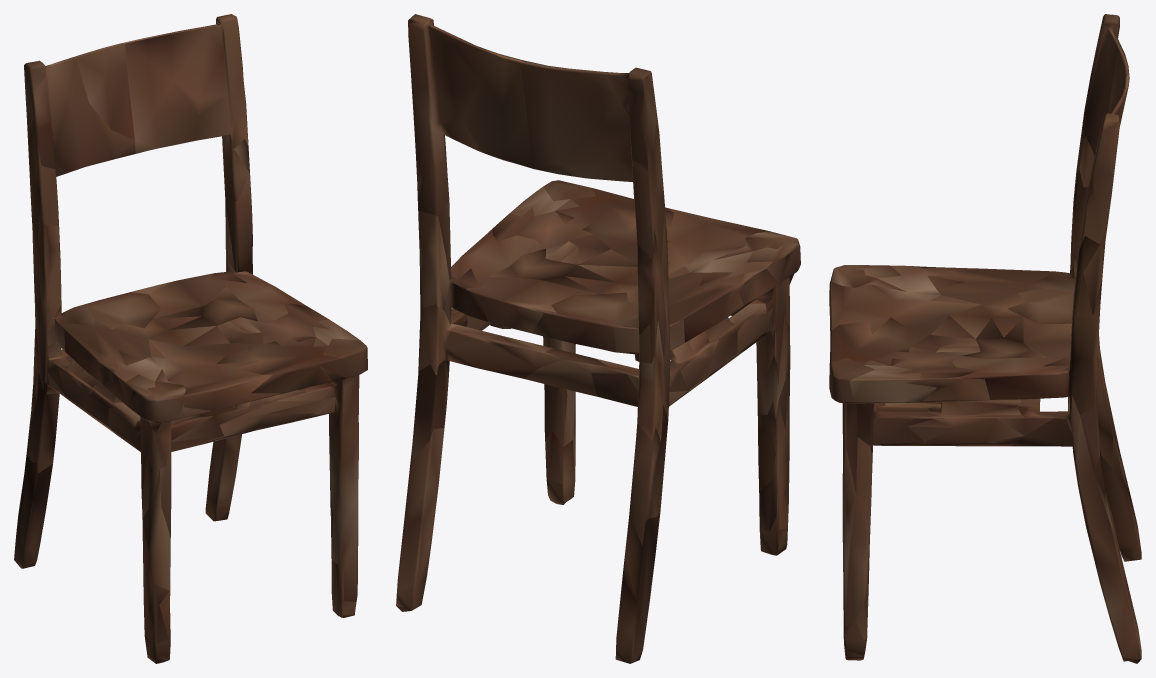
The model's file is silla.glb.
3 views of the same model, side by side, from view 1: azimuth 30°, elevation 25°; view 2: azimuth 150°, elevation 25°; view 3: azimuth 270°, elevation 25° (orthographic). The views are drawn at different scales.
Visible parts, largest first — view 1: tripo_node_a2b9ca2f-5032-4672-860c-a8e8e39a394c; view 2: tripo_node_a2b9ca2f-5032-4672-860c-a8e8e39a394c; view 3: tripo_node_a2b9ca2f-5032-4672-860c-a8e8e39a394c.
Boxes of the visible parts, x1=… form: tripo_node_a2b9ca2f-5032-4672-860c-a8e8e39a394c: x1=14, y1=14, x2=367, y2=663; tripo_node_a2b9ca2f-5032-4672-860c-a8e8e39a394c: x1=396, y1=14, x2=800, y2=663; tripo_node_a2b9ca2f-5032-4672-860c-a8e8e39a394c: x1=829, y1=14, x2=1141, y2=663.
Bounding box in the file's own units: 0.4543 × 1 × 0.5197.
